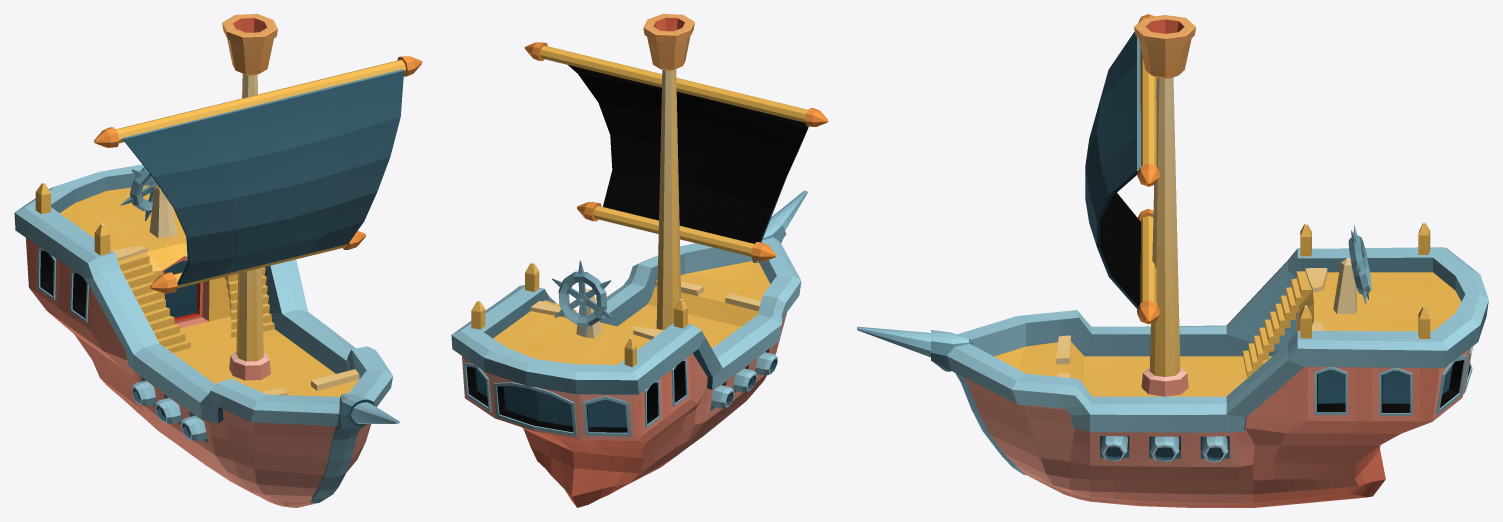
File: pirate_ship.glb
3 views of the same model, side by side, from view 1: azimuth 30°, elevation 25°; view 2: azimuth 150°, elevation 25°; view 3: azimuth 270°, elevation 25° (orthographic). The views are drawn at different scales.
Parts seen in each view (by area): view 1: pirate_Ship; view 2: pirate_Ship; view 3: pirate_Ship.
Boxes of the visible parts, box(x1,y1,x2,y2) form: pirate_Ship: box(14, 14, 422, 507); pirate_Ship: box(451, 14, 828, 507); pirate_Ship: box(857, 14, 1488, 507).
Size of the model in its own units: 16.26 by 21.74 by 25.93.
1 material, 1 textured.
